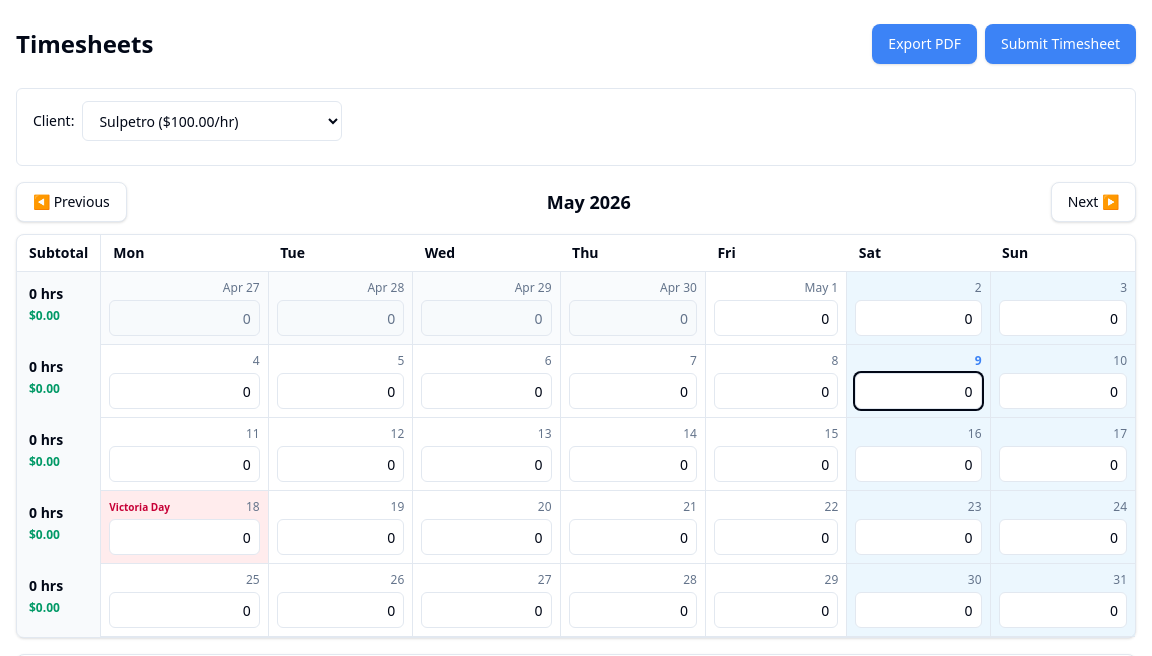
Test case: Timesheets page › shows Remaining when the client has a contract_value
The image size is (1152, 656).
Select "Wenco ($95.38/hr)" in the dropdown labelled "Client:" at [212, 121], box [82,101,342,141]
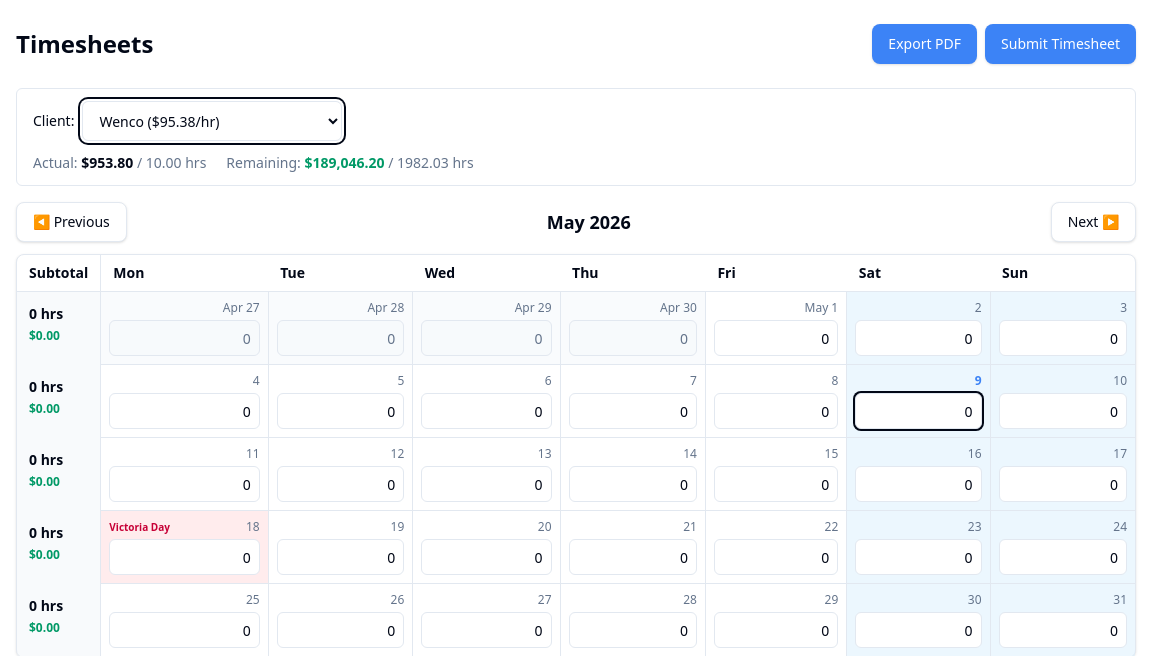
Expected: the text "Remaining:" is shown, [226,153,301,172]
Expected: the text "$189,046.20" is shown, [304,153,385,172]
